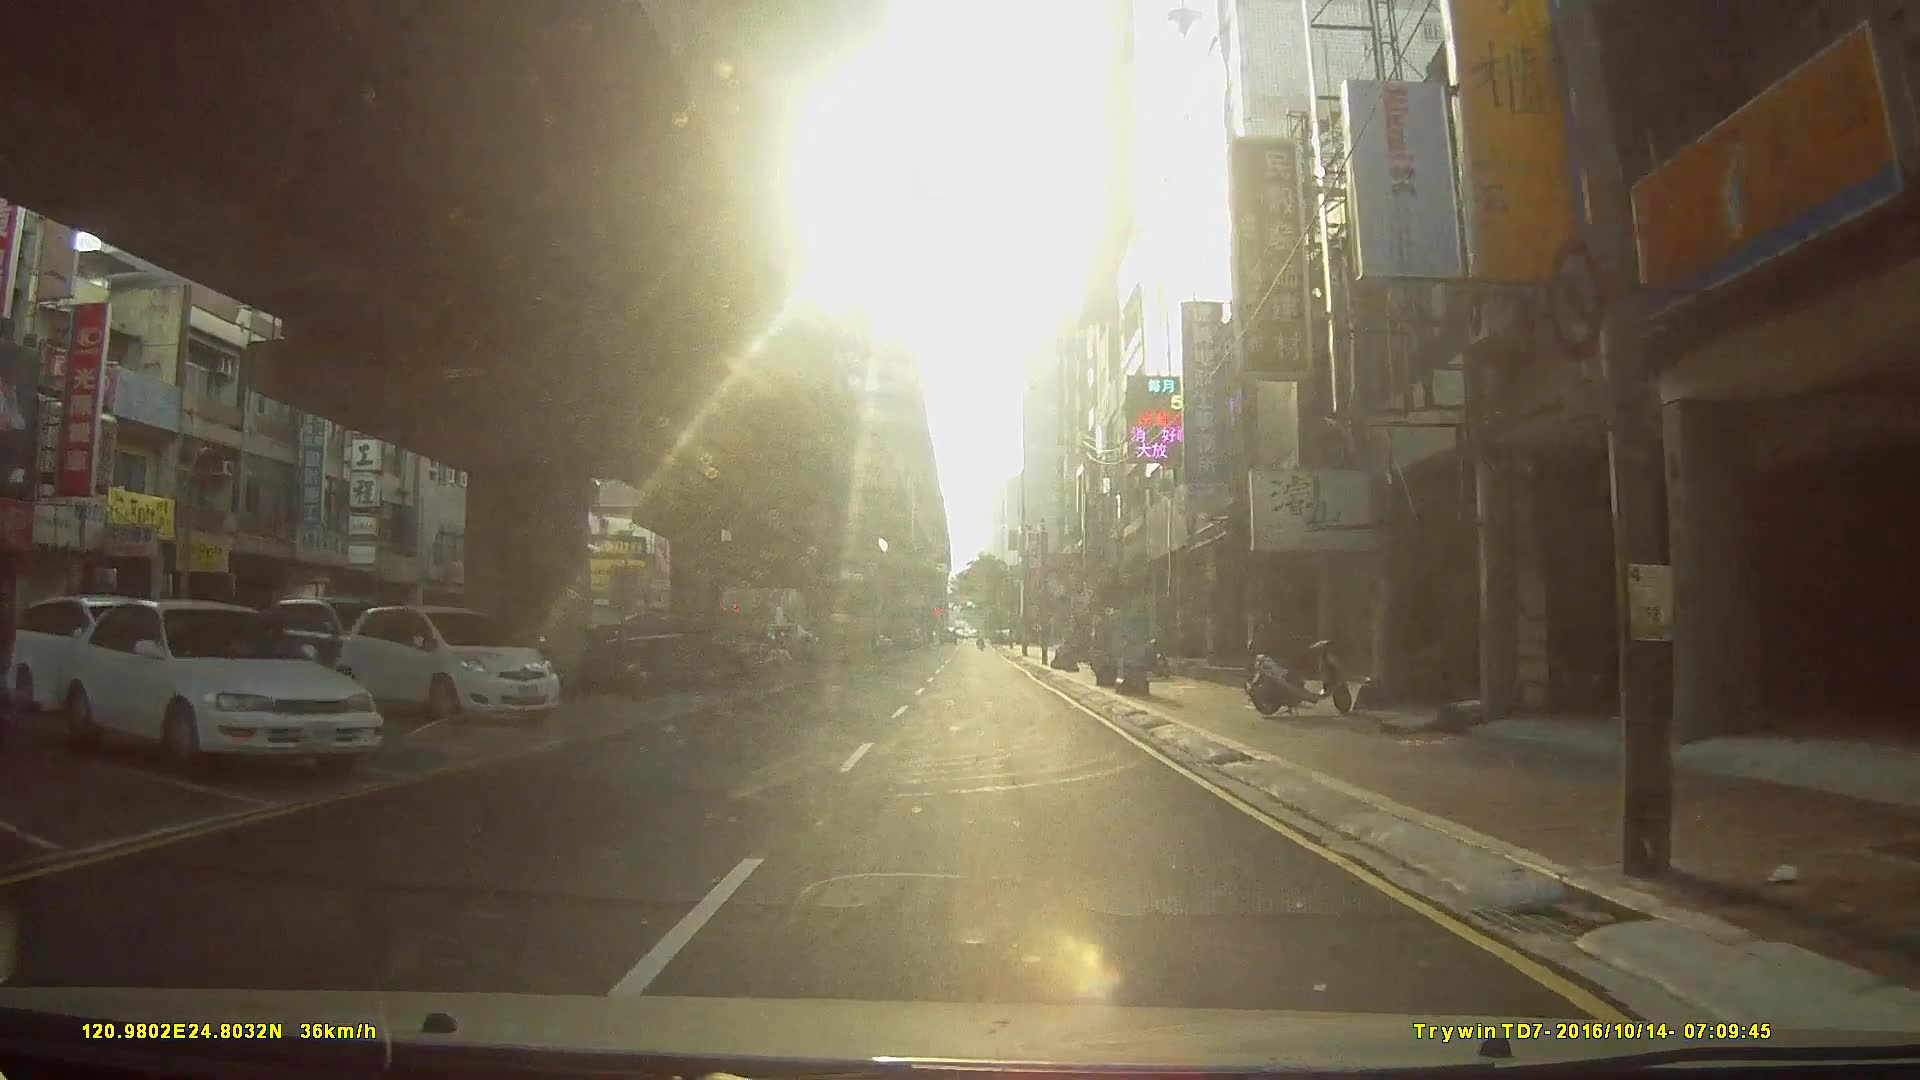vehicle: (54, 600, 382, 781), (336, 600, 563, 723), (1, 595, 171, 717)
